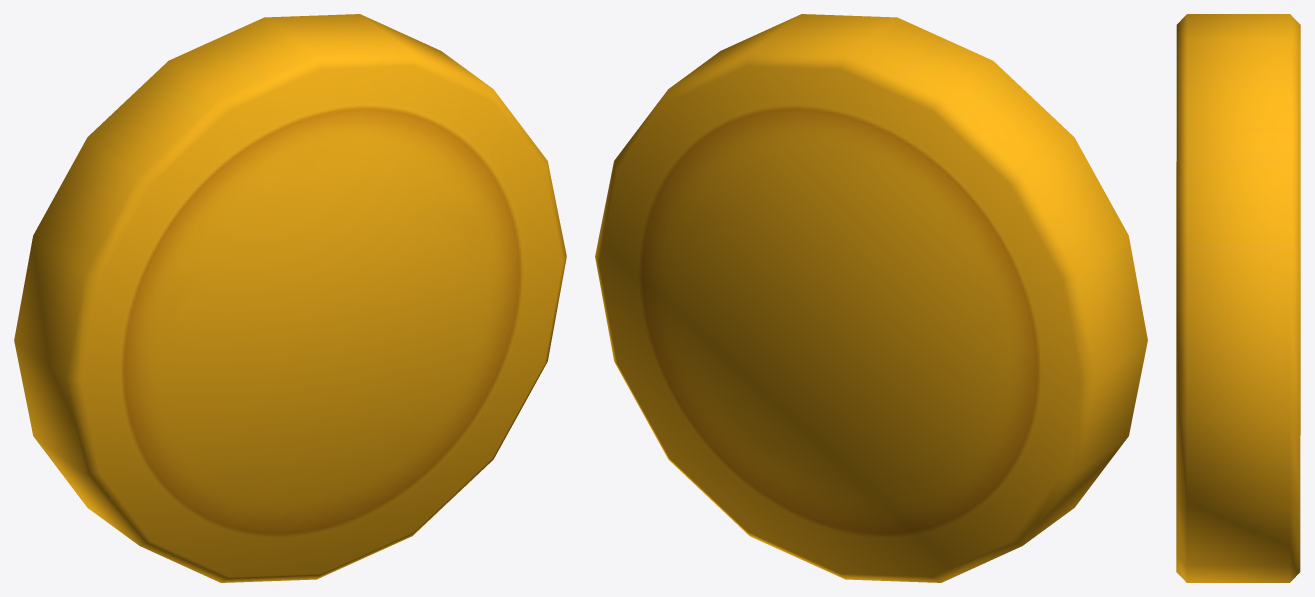
The model's file is Coin.fbx.
3 renders of one model, left to right at view 1: azimuth 30°, elevation 25°; view 2: azimuth 150°, elevation 25°; view 3: azimuth 270°, elevation 25°, orthographic.
Parts seen in each view (by area): view 1: Coin; view 2: Coin; view 3: Coin.
Boxes of the visible parts, x1,y1,x2,y2 form: Coin: [14, 14, 566, 582]; Coin: [595, 14, 1147, 582]; Coin: [1176, 14, 1300, 582].
Bounding box in the file's own units: 20.84 × 20.84 × 4.55.
